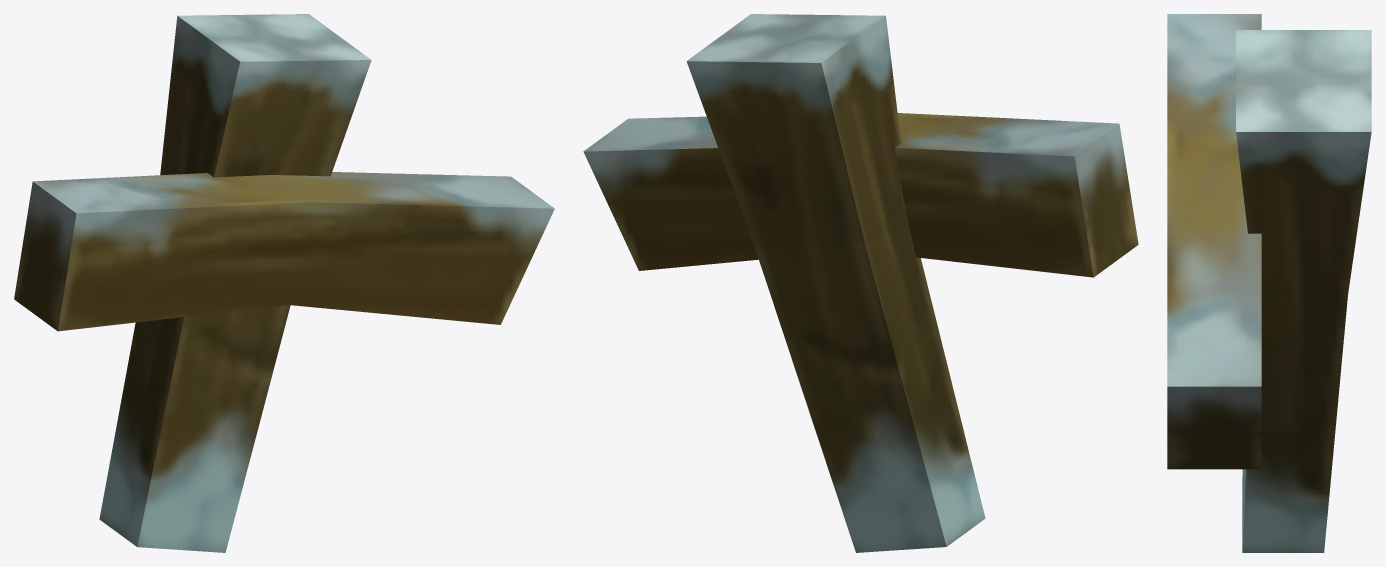
File: Stage_BingYuan_LiBa02.FBX
3 views of the same model, side by side, from view 1: azimuth 30°, elevation 25°; view 2: azimuth 150°, elevation 25°; view 3: azimuth 270°, elevation 25° (orthographic). The views are drawn at different scales.
Parts seen in each view (by area): view 1: Stage_BingYuan_LiBa02; view 2: Stage_BingYuan_LiBa02; view 3: Stage_BingYuan_LiBa02.
Boxes of the visible parts, left/top/right/bottom form: Stage_BingYuan_LiBa02: left=14, top=14, right=554, bottom=552; Stage_BingYuan_LiBa02: left=583, top=14, right=1138, bottom=552; Stage_BingYuan_LiBa02: left=1167, top=14, right=1371, bottom=552.
Bounding box in the file's own units: 151 × 143 × 49.97.
